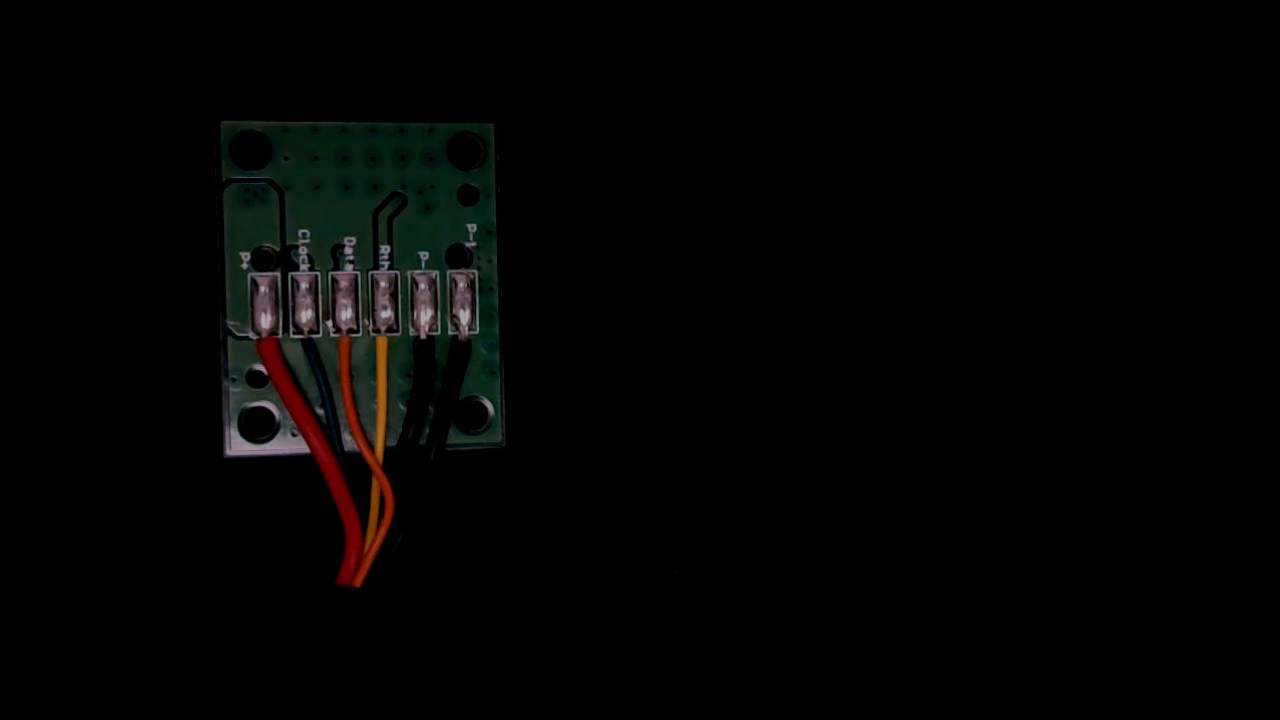Black: (408, 314, 442, 387)
Black1: (450, 313, 483, 380)
Green: (290, 315, 324, 385)
Orange: (330, 315, 362, 387)
Red: (248, 316, 283, 386)
Yellow: (369, 315, 403, 389)
